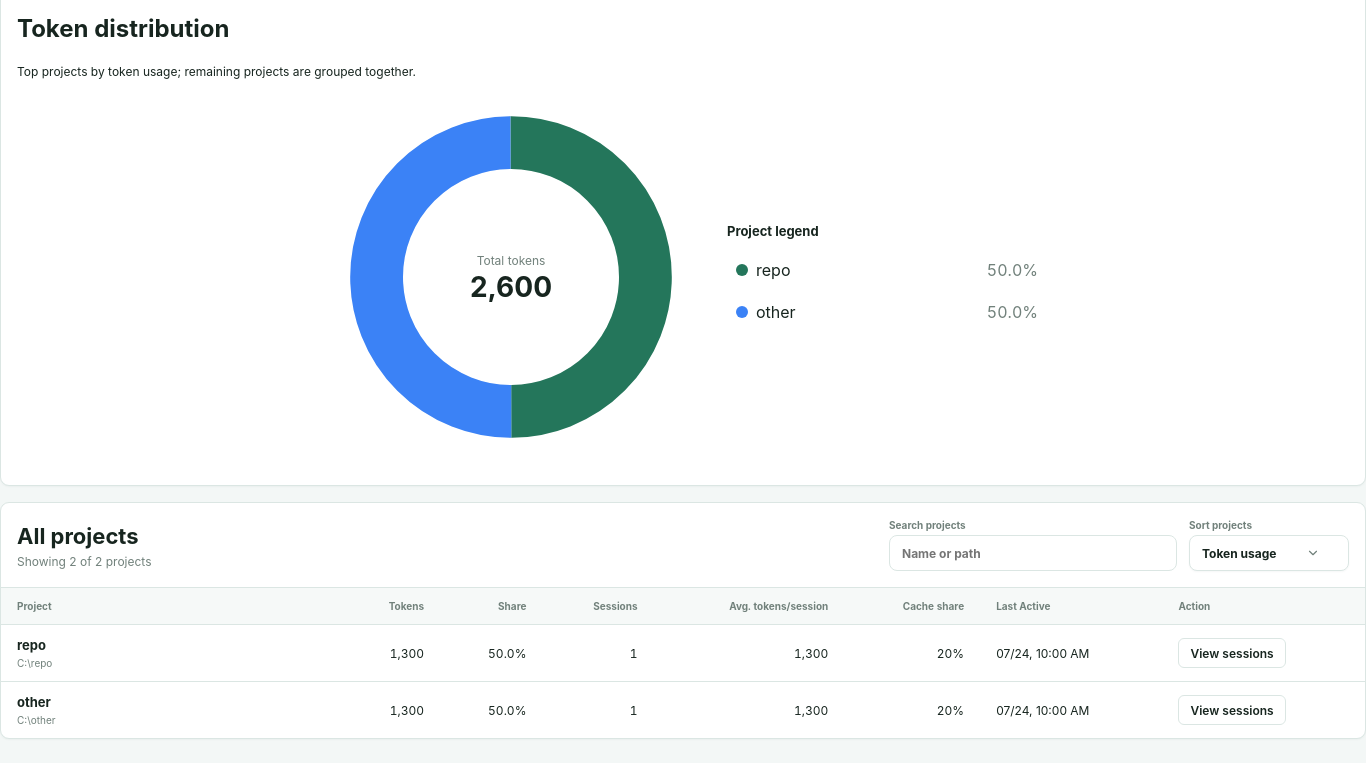
Test case: analytics tables › searches by project path and clears a no-results state
This screenshot has width=1366, height=763.
(page scrolled)
Step 1. Type "other" into the search field labelled "Search projects" → (1033, 553), box [889,535,1177,571]
(page scrolled)
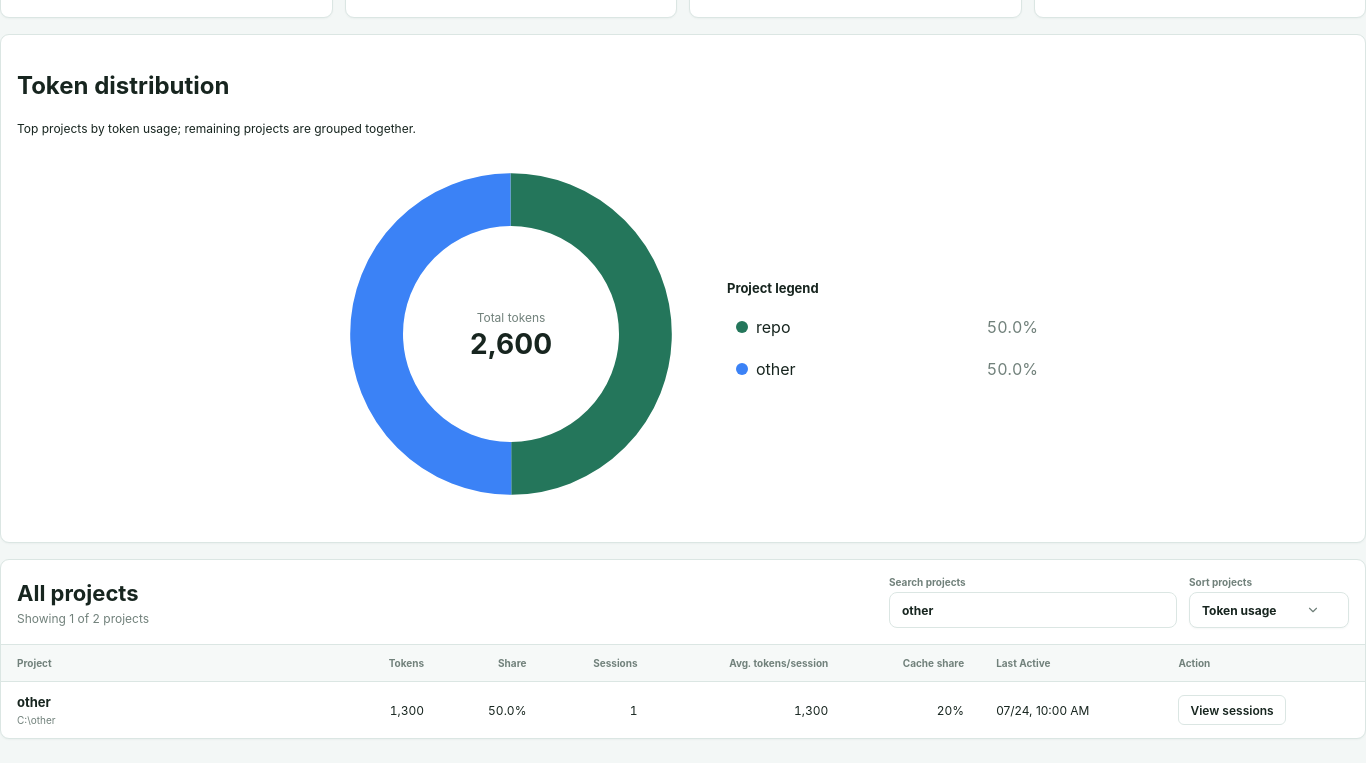
Expected: the button with aria-label "View sessions for other" is shown, [1178,695,1286,725]
Step 2. Replace the text in the search field labelled "Search projects" with "missing" → (1033, 610), box [889,592,1177,628]
(page scrolled)
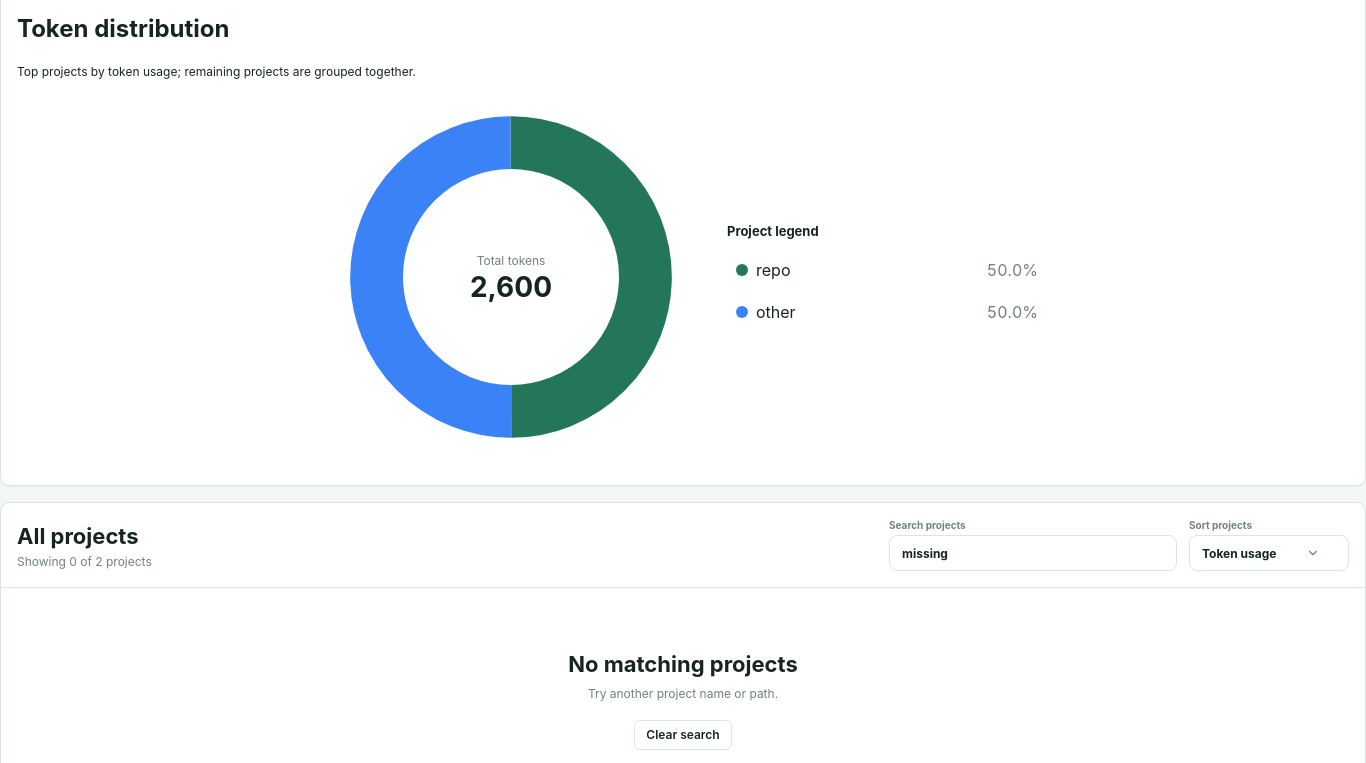
Expected: the text "No matching projects" is shown, [568,651,798,677]
Step 3. Click the button "Clear search" → (683, 735), box [634,720,732,750]
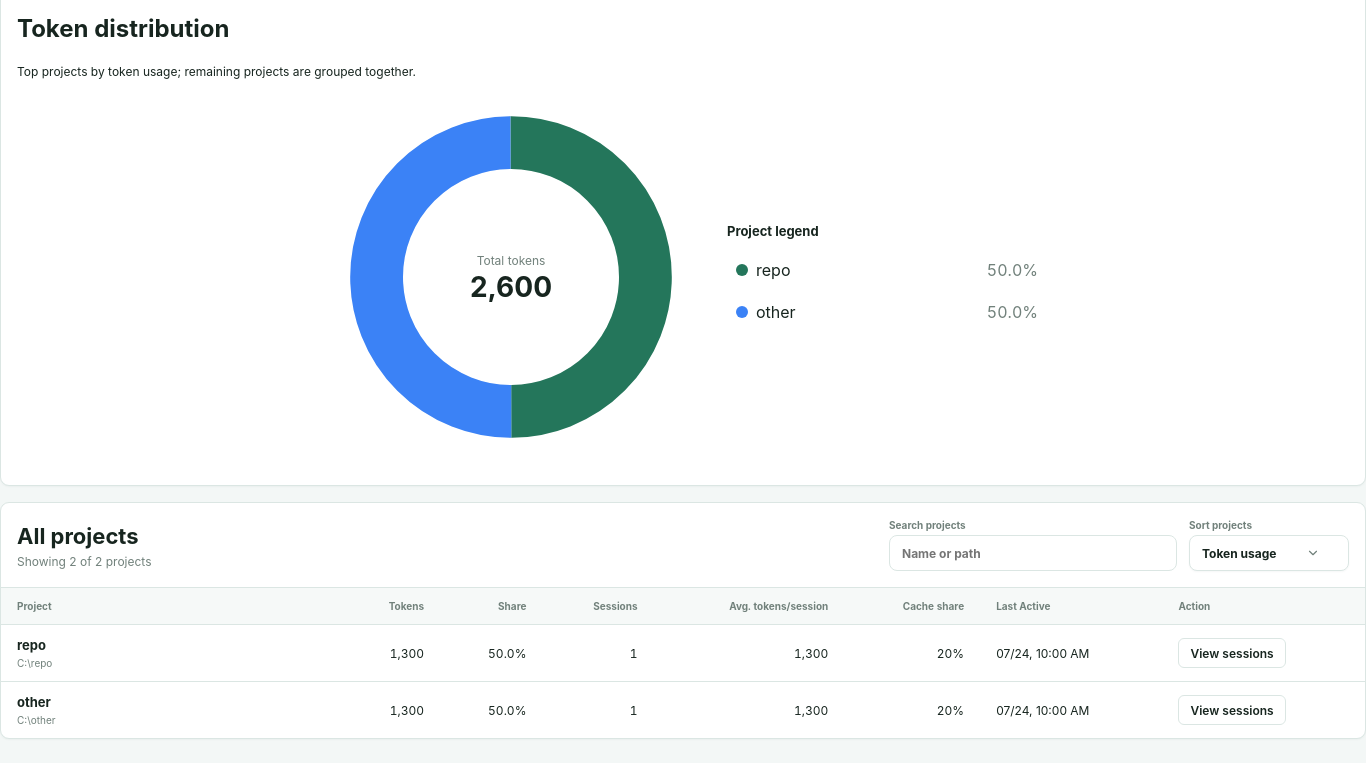
Expected: the button with aria-label "View sessions for repo" is shown, [1178,638,1286,668]
